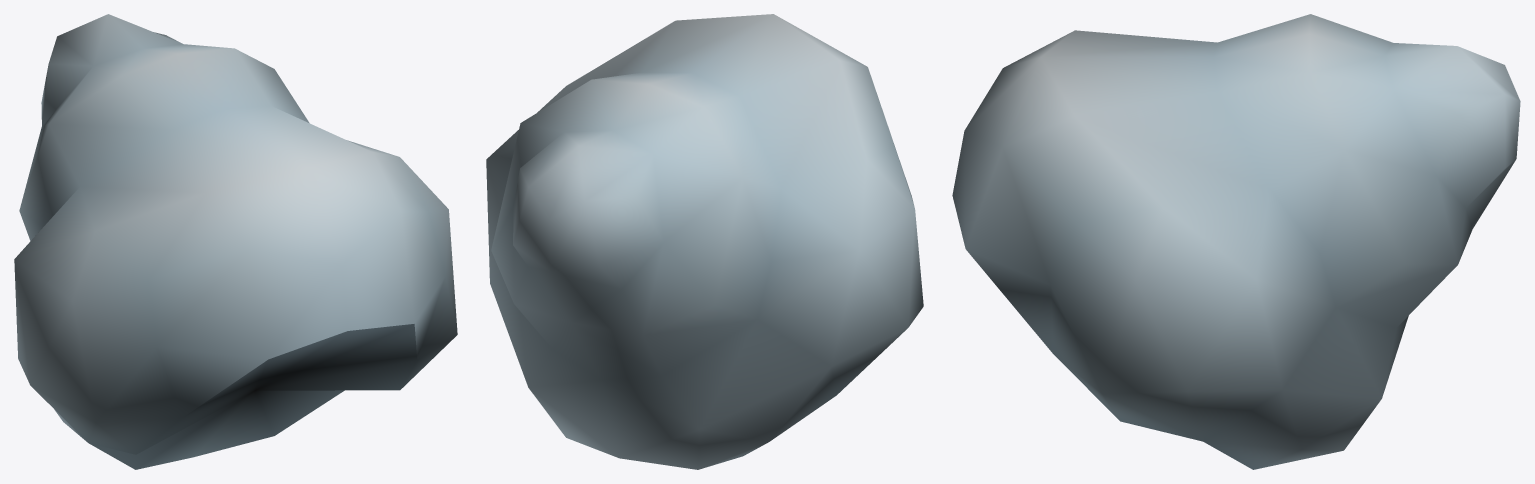
File: Head.fbx
3 renders of one model, left to right at view 1: azimuth 30°, elevation 25°; view 2: azimuth 150°, elevation 25°; view 3: azimuth 270°, elevation 25°, orthographic. The views are drawn at different scales.
Parts seen in each view (by area): view 1: cloud_head; view 2: cloud_head; view 3: cloud_head.
Part boxes in pixels (x1,y1,x2,y2): cloud_head: [14, 14, 457, 469]; cloud_head: [486, 14, 923, 469]; cloud_head: [952, 14, 1520, 469].
Bounding box in the file's own units: 898 × 817 × 1017.
